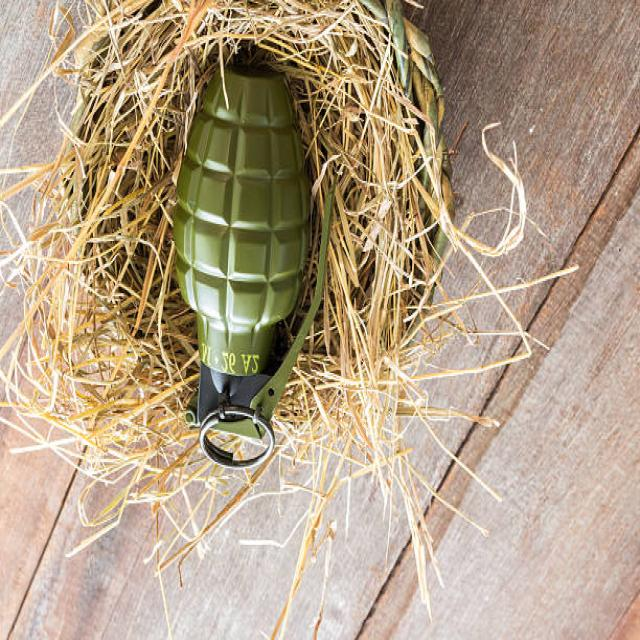grenade: (169, 58, 340, 477)
